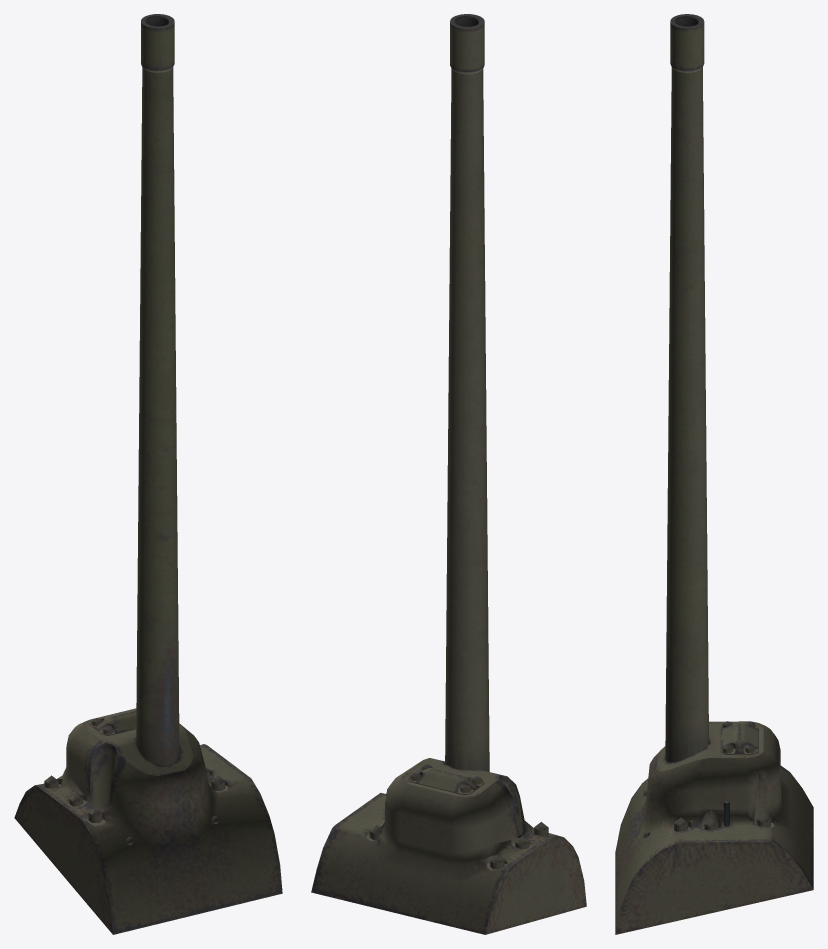
The model's file is Gun_02.glb.
3 renders of one model, left to right at view 1: azimuth 30°, elevation 25°; view 2: azimuth 150°, elevation 25°; view 3: azimuth 270°, elevation 25°, orthographic. The views are drawn at different scales.
Parts seen in each view (by area): view 1: set_0_group_0; view 2: set_0_group_0; view 3: set_0_group_0.
Boxes of the visible parts, left/top/right/bottom form: set_0_group_0: left=14, top=14, right=282, bottom=934; set_0_group_0: left=311, top=14, right=586, bottom=934; set_0_group_0: left=615, top=14, right=813, bottom=934.
Bounding box in the file's own units: 0.7124 × 3.48 × 0.7178.
Materials: 1 (1 with a texture image).
